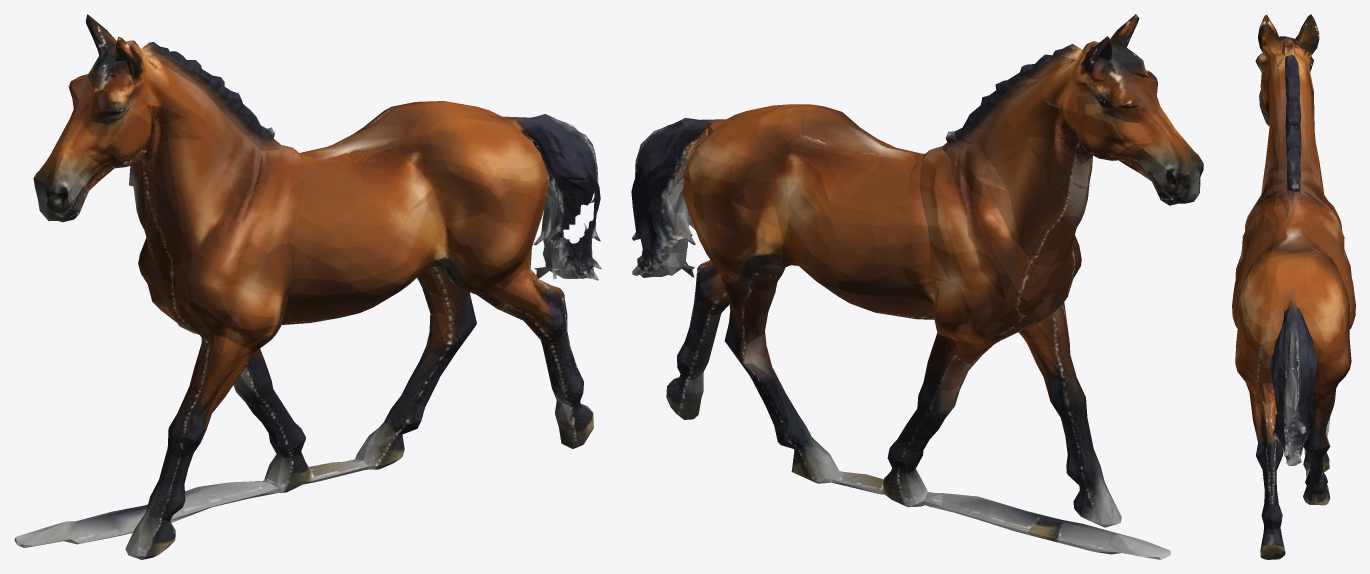
Rendered from caballo.glb.
3 views of the same model, side by side, from view 1: azimuth 30°, elevation 25°; view 2: azimuth 150°, elevation 25°; view 3: azimuth 270°, elevation 25° (orthographic). The views are drawn at different scales.
Visible parts, largest first — view 1: geometry_0; view 2: geometry_0; view 3: geometry_0.
Boxes of the visible parts, left/top/right/bottom form: geometry_0: left=14, top=14, right=601, bottom=559; geometry_0: left=631, top=14, right=1203, bottom=559; geometry_0: left=1232, top=14, right=1355, bottom=559.
Size of the model in its own units: 1.13 by 1 by 0.2916.
Materials: 1 (1 with a texture image).
